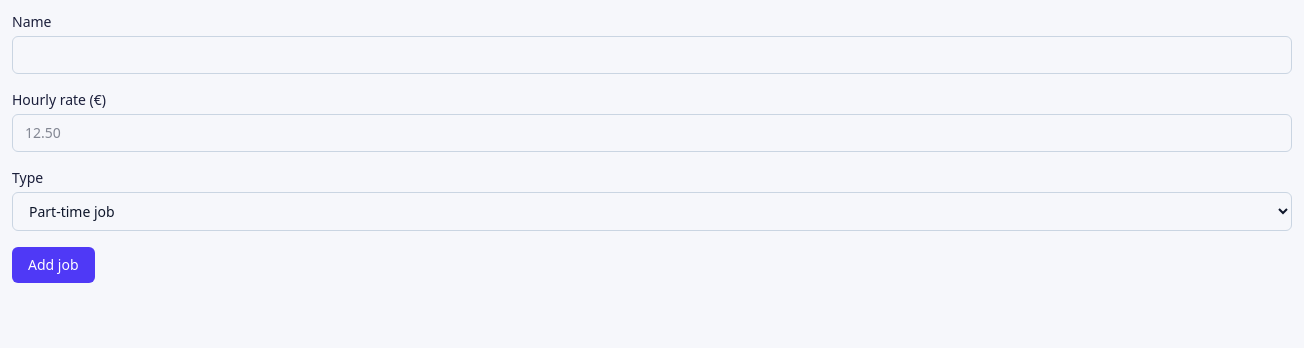
JobForm › shows errors and does not submit when the name or rate is invalid
The width and height of the screenshot is (1304, 348).
Type "abc" into the field labelled "Hourly rate (€)" at (652,133), box [12, 114, 1292, 152]
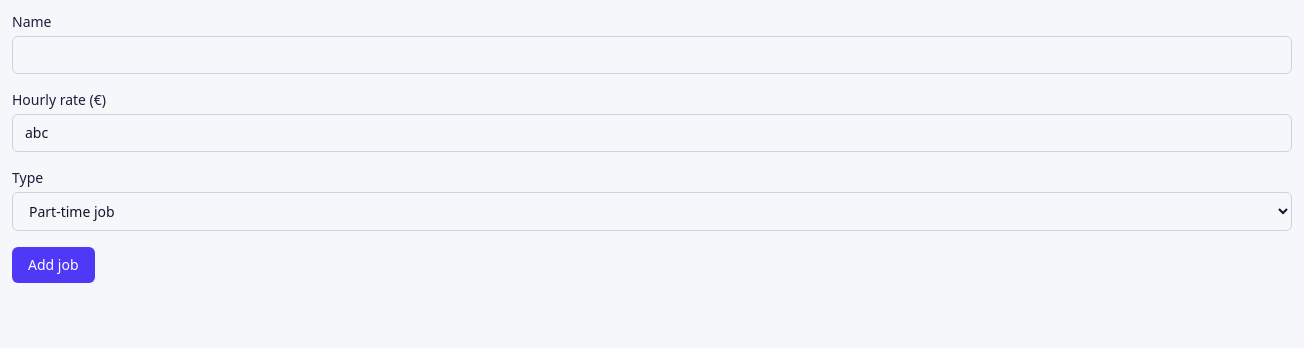
Click the button "Add job" at (53,265), box [12, 247, 94, 283]
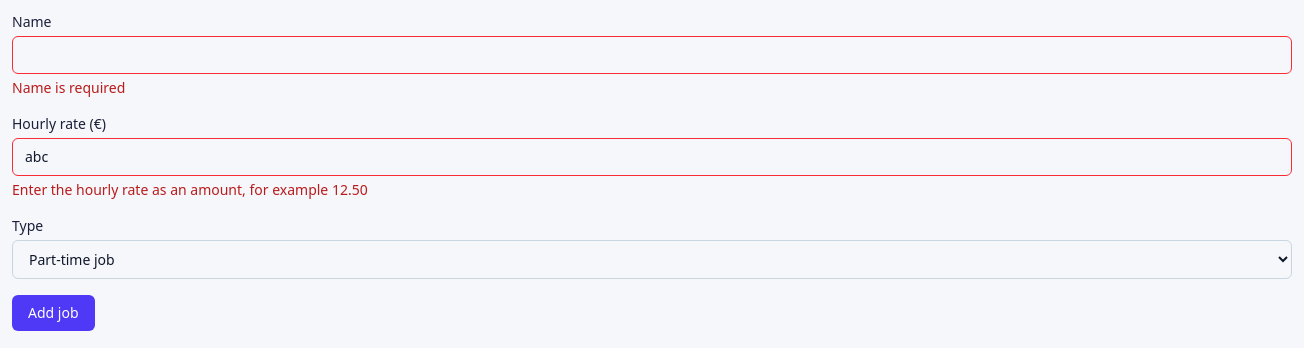
Result: the text "Name is required" is shown at [12, 78, 125, 97]
Result: the text "Enter the hourly rate as an amount, for example 12.50" is shown at [12, 180, 368, 199]
